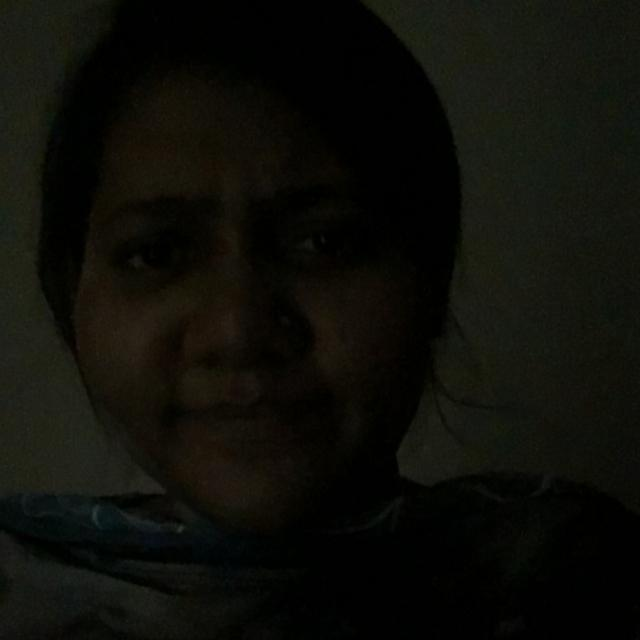Angry: (11, 45, 509, 571)
